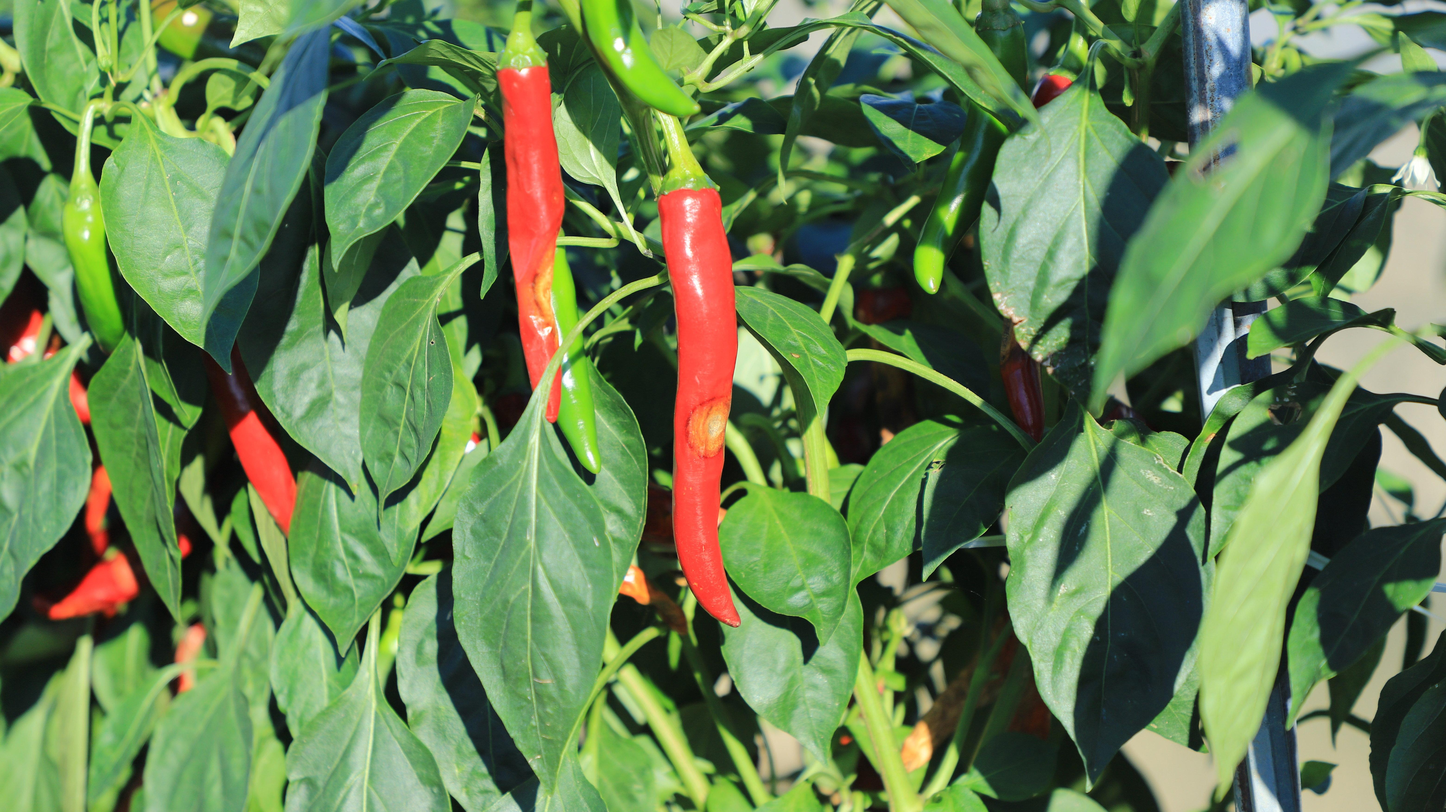Busuk Buah Antraknosa: (656, 175, 757, 638), (493, 10, 568, 425)
Daun Cabai Sehat: (1090, 57, 1339, 431), (1002, 420, 1211, 792), (976, 87, 1170, 413), (450, 441, 616, 807), (93, 125, 267, 377), (200, 31, 333, 327), (85, 331, 183, 625), (322, 88, 478, 271), (357, 267, 455, 527), (718, 490, 860, 651), (733, 278, 852, 433)
